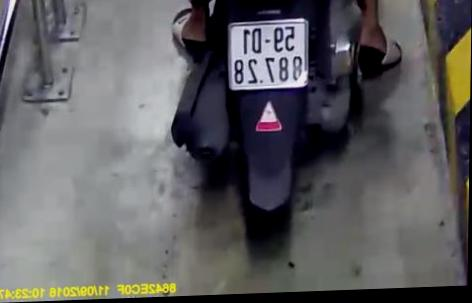License_Plate: (224, 13, 316, 98)
